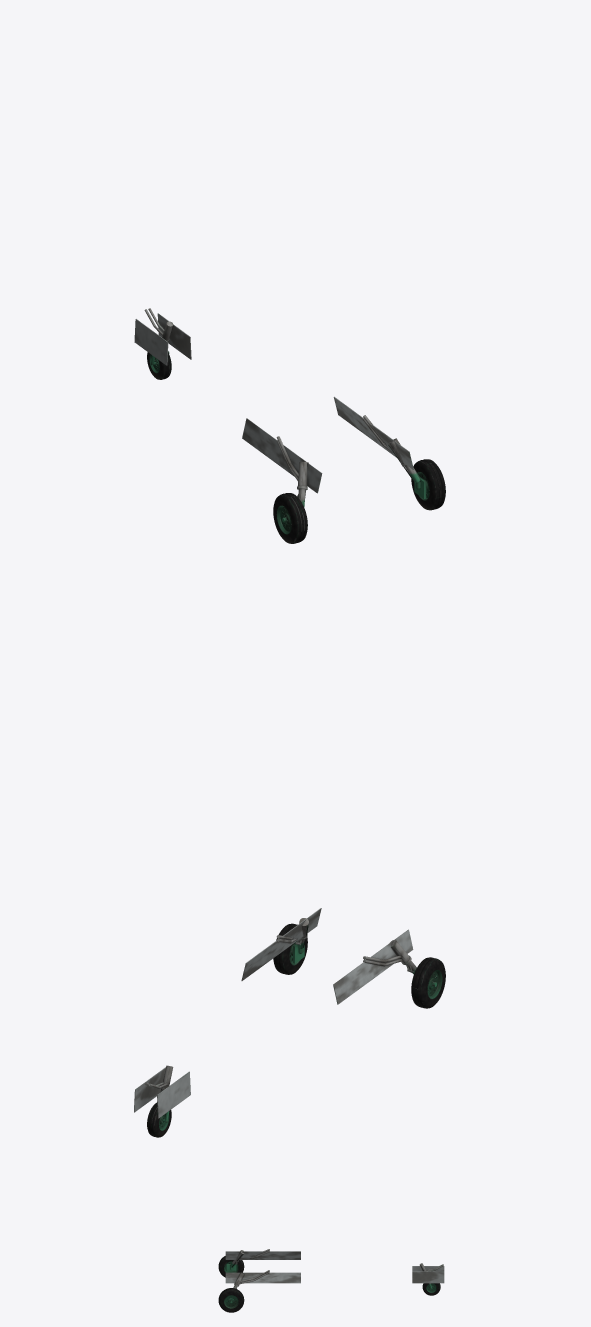
Rendered from yak38_gear.glb.
The picture shows the model from 3 angles, top to bottom: view 1: azimuth 30°, elevation 25°; view 2: azimuth 150°, elevation 25°; view 3: azimuth 270°, elevation 25°; orthographic projection. The views are drawn at different scales.
Visible parts, largest first — view 1: door_m_l_g, gear_w_l, gear_w_r, door_m_r_g, door_n_l_g, gear_m_r; view 2: door_m_l_g, gear_w_l, door_m_r_g, door_n_l_g, gear_w_r; view 3: door_m_r_g, door_m_l_g, gear_w_r, door_n_r_g, gear_w_l, gear_m_l, gear_m_r.
Boxes of the visible parts, x1,y1,x2,y2 form: door_m_l_g: (242, 418, 322, 493); gear_w_l: (273, 493, 307, 543); gear_w_r: (411, 459, 445, 510); door_m_r_g: (333, 396, 413, 469); door_n_l_g: (134, 319, 168, 365); gear_m_r: (363, 415, 426, 498); door_m_l_g: (333, 929, 413, 1004); gear_w_l: (411, 957, 445, 1008); door_m_r_g: (241, 908, 321, 980); door_n_l_g: (157, 1071, 190, 1118); gear_w_r: (273, 923, 307, 974); door_m_r_g: (225, 1272, 300, 1283); door_m_l_g: (225, 1251, 300, 1259); gear_w_r: (218, 1288, 244, 1312); door_n_r_g: (412, 1271, 444, 1283); gear_w_l: (218, 1256, 244, 1277); gear_m_l: (226, 1249, 269, 1272); gear_m_r: (230, 1270, 269, 1303).
Size of the model in its own units: 2.77 by 4.46 by 17.66.
1 material, 1 textured.
